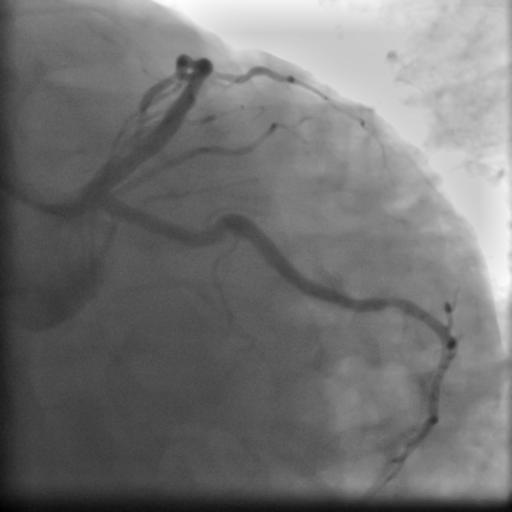Stenosis: (198, 218, 225, 243)
